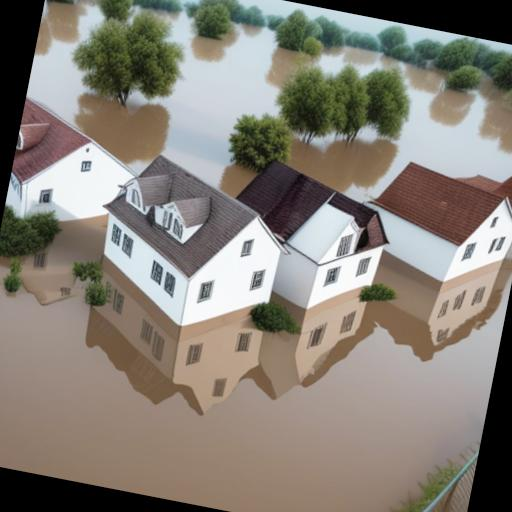flood: (0, 222, 512, 512), (0, 301, 379, 512), (27, 0, 298, 196), (289, 46, 512, 201)
house: (81, 143, 301, 344), (206, 150, 396, 334), (356, 146, 512, 300), (4, 92, 144, 239)
